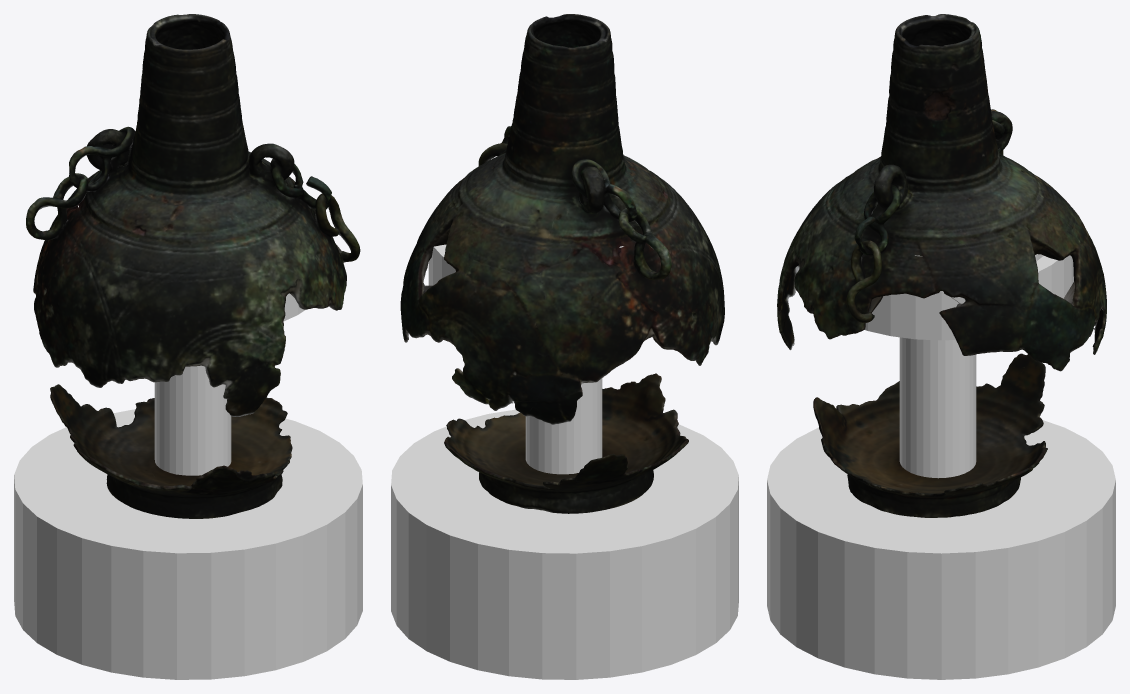
File: 04_Gefaess.glb
The picture shows the model from 3 angles, left to right: view 1: azimuth 30°, elevation 25°; view 2: azimuth 150°, elevation 25°; view 3: azimuth 270°, elevation 25°; orthographic projection.
Parts seen in each view (by area): view 1: 03_gefaess_02, Cylinder, Cylinder.001; view 2: 03_gefaess_02, Cylinder, Cylinder.001, Cylinder.003; view 3: 03_gefaess_02, Cylinder, Cylinder.001, Cylinder.003.
Boxes of the visible parts, x1,y1,x2,y2 form: 03_gefaess_02: (26, 14, 360, 518); Cylinder: (14, 409, 362, 679); Cylinder.001: (154, 365, 231, 475); 03_gefaess_02: (400, 14, 724, 513); Cylinder: (391, 409, 738, 679); Cylinder.001: (525, 378, 602, 474); Cylinder.003: (428, 244, 455, 285); 03_gefaess_02: (777, 14, 1106, 517); Cylinder: (767, 420, 1115, 679); Cylinder.001: (899, 337, 976, 478); Cylinder.003: (864, 255, 1073, 340).
Bounding box in the file's own units: 0.05 × 0.0912 × 0.05.
Materials: 1 (1 with a texture image).
